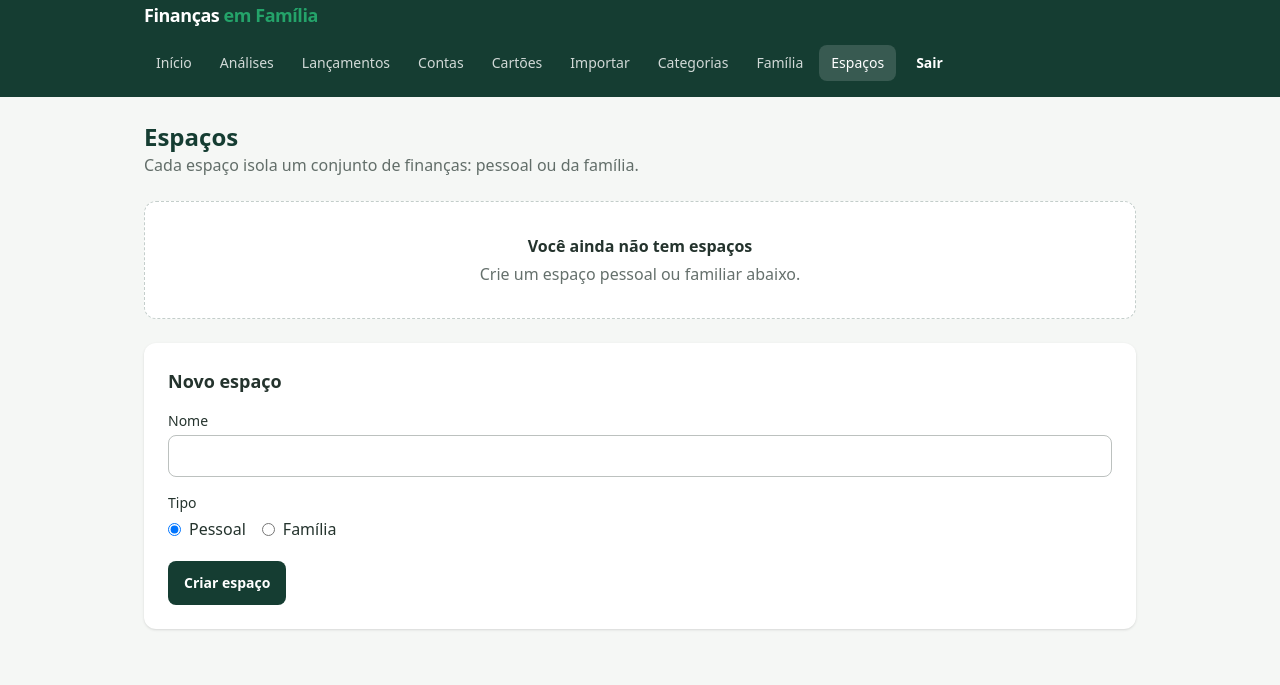
it: HouseholdsPage › reutiliza a chave de idempotência ao tentar de novo após falha
Type "Minhas finanças" into the field labelled "Nome" at (640, 456), box [168,435,1112,477]
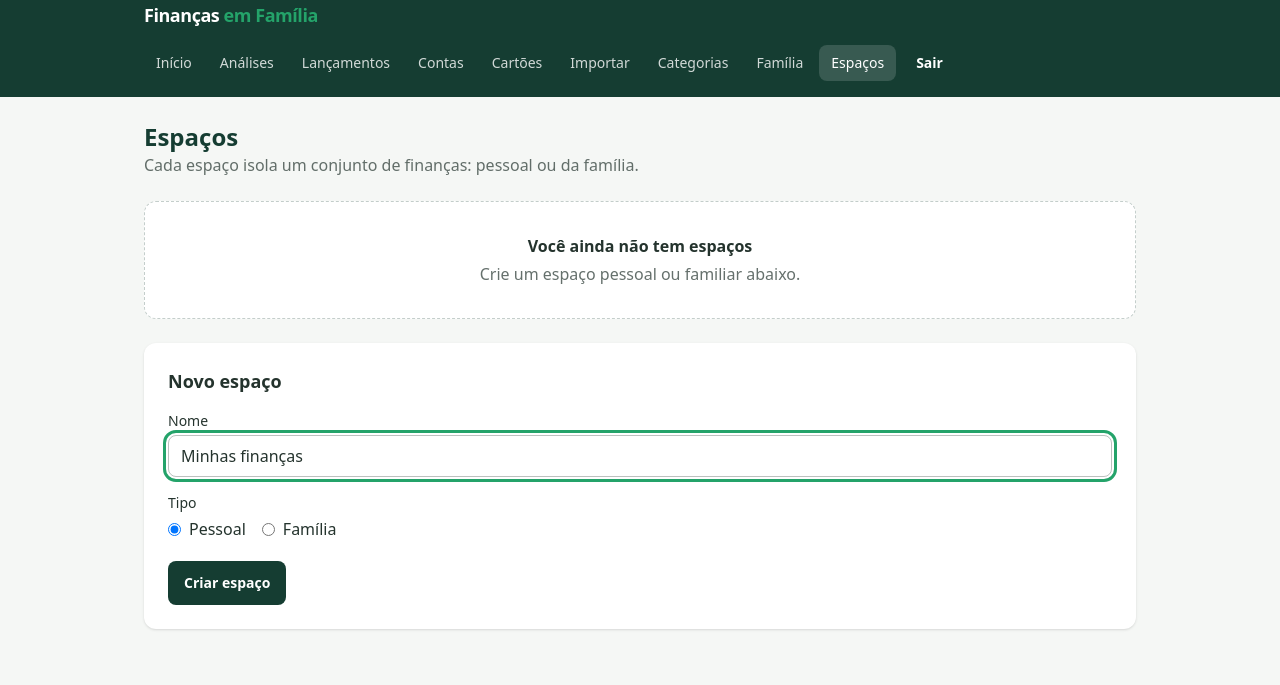
Click the button "Criar espaço" at (227, 583), box [168,561,286,605]
(page scrolled)
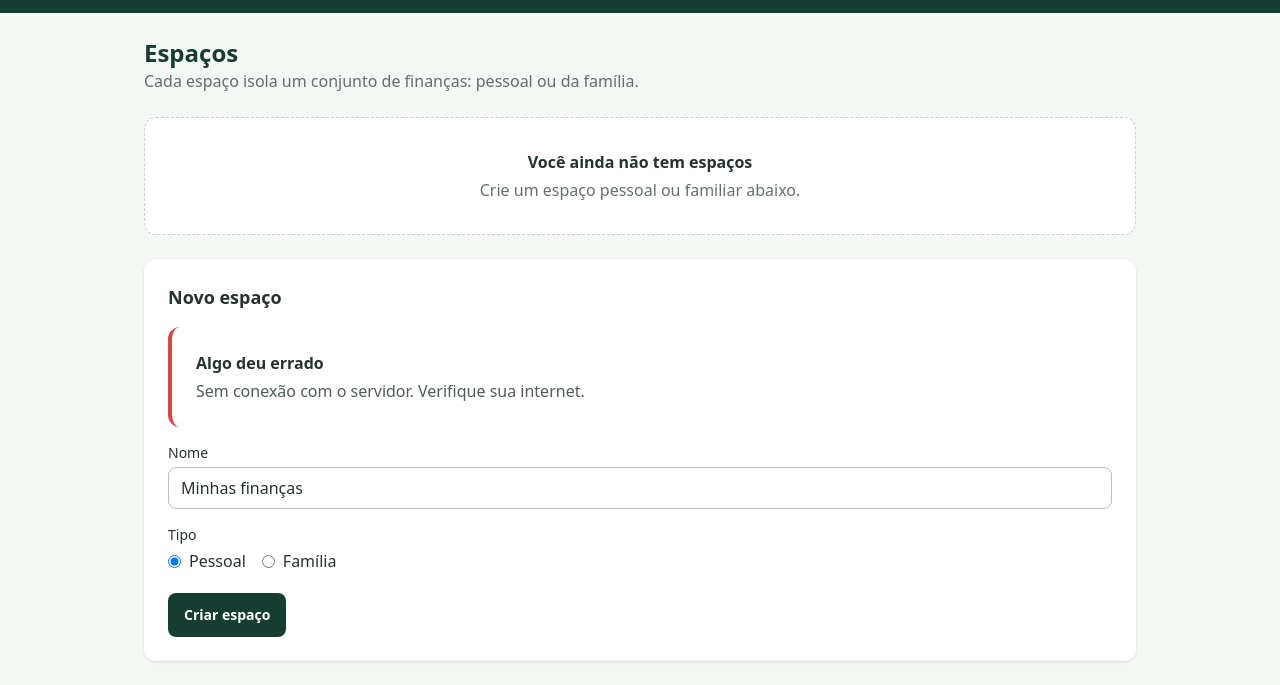
Check: the message shows "Sem conexão", box [196,380,585,402]
Click the button "Criar espaço" at (227, 615), box [168,593,286,637]
(page scrolled)
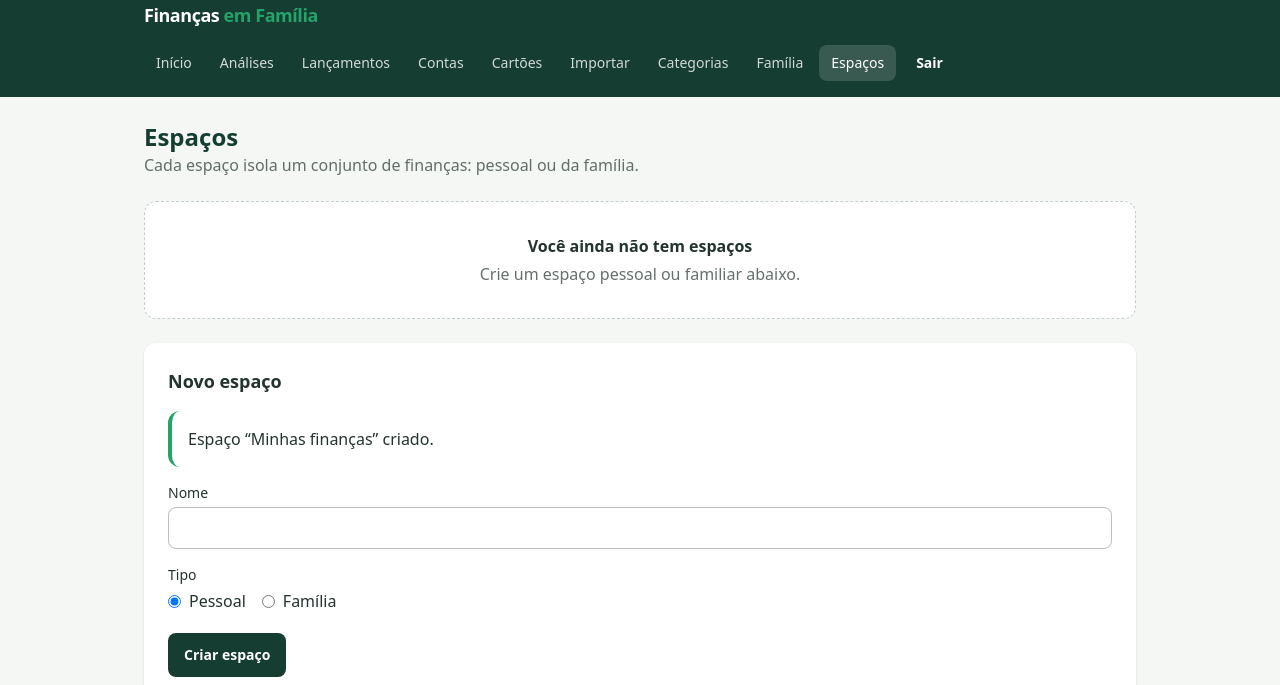
Check: the text "Espaço “Minhas finanças” criado." is shown, box [168,411,1112,467]
